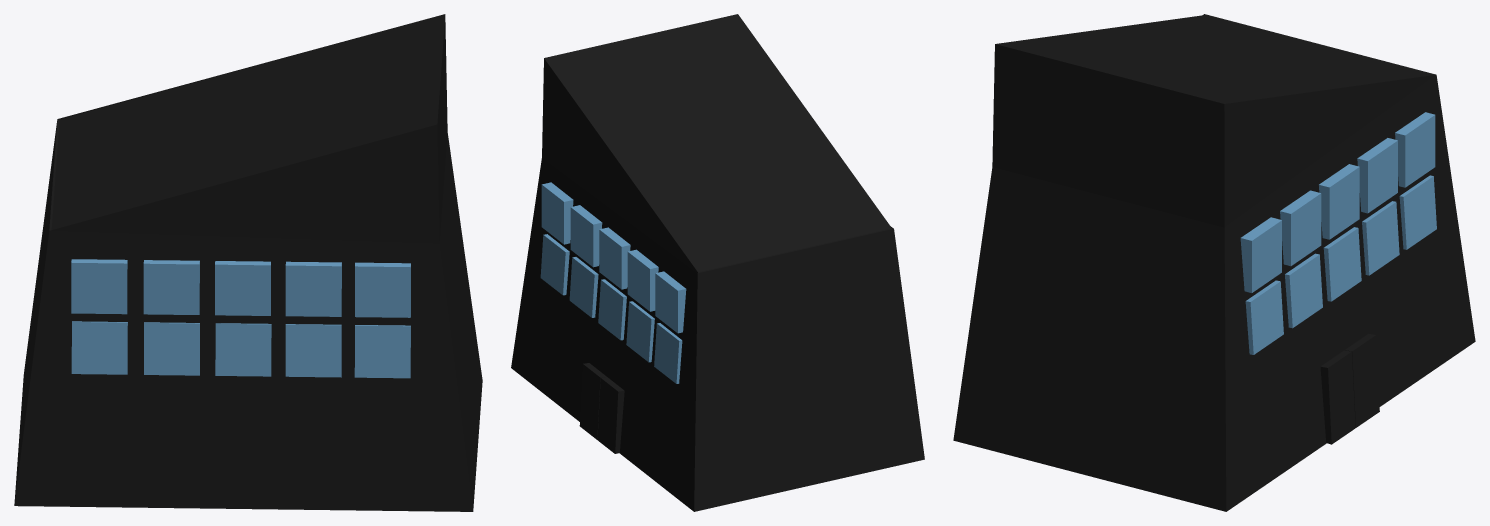
Rendered from fabrica.fbx.
3 views of the same model, side by side, from view 1: azimuth 30°, elevation 25°; view 2: azimuth 150°, elevation 25°; view 3: azimuth 270°, elevation 25° (orthographic). The views are drawn at different scales.
Parts seen in each view (by area): view 1: Cube.001; view 2: Cube.001; view 3: Cube.001.
Boxes of the visible parts, x1=… form: Cube.001: x1=14, y1=14, x2=482, y2=511; Cube.001: x1=511, y1=14, x2=924, y2=511; Cube.001: x1=953, y1=14, x2=1475, y2=511.
Size of the model in its own units: 1981 by 1486 by 1809.
